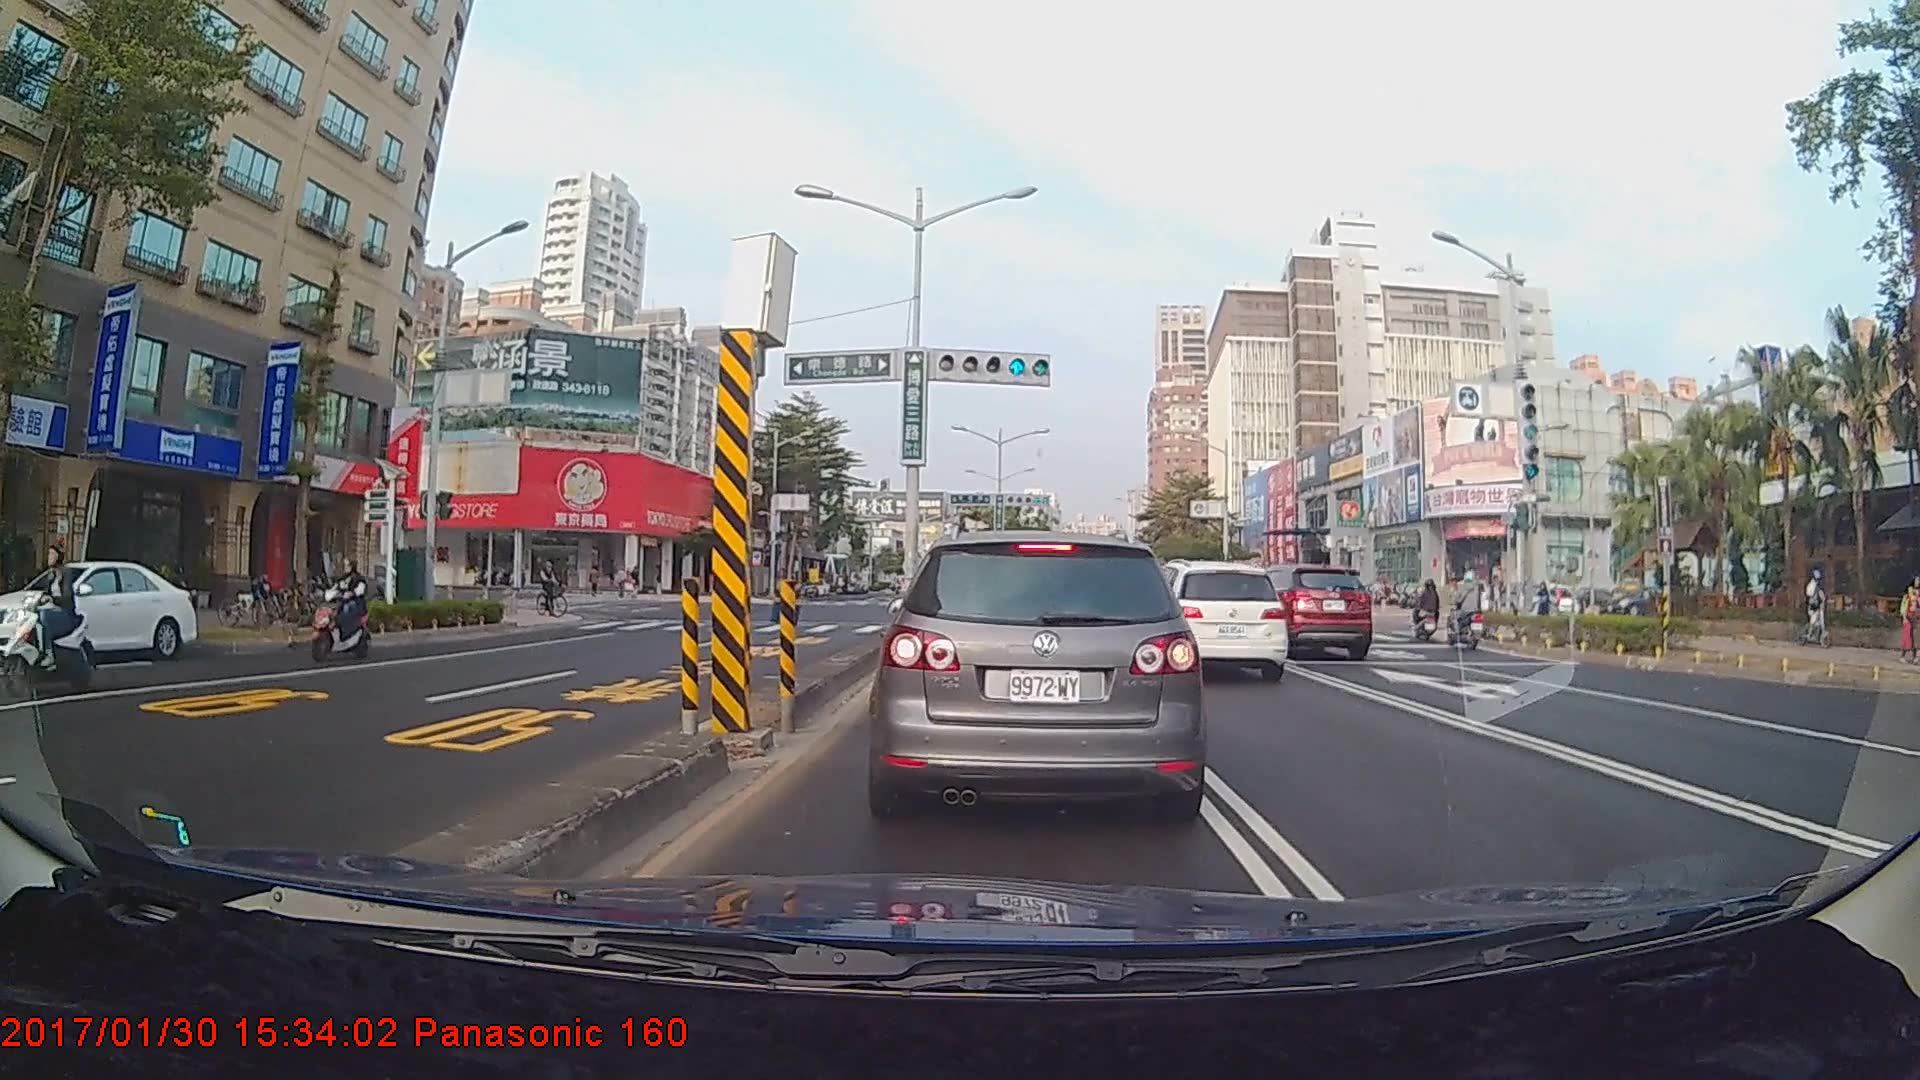pedestrian: (1898, 573, 1920, 665)
rider: (1, 543, 102, 699), (298, 556, 370, 666), (1791, 563, 1838, 651), (1442, 567, 1492, 651), (1412, 574, 1444, 646), (537, 559, 576, 615)
vehicle: (876, 523, 1204, 820), (4, 559, 197, 667), (1132, 557, 1287, 682), (1247, 565, 1372, 661)
